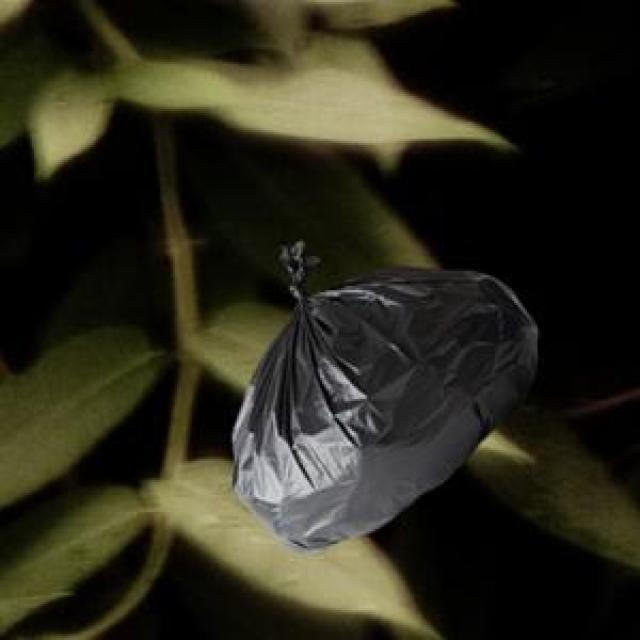miscellaneous trash: (228, 237, 533, 548)
